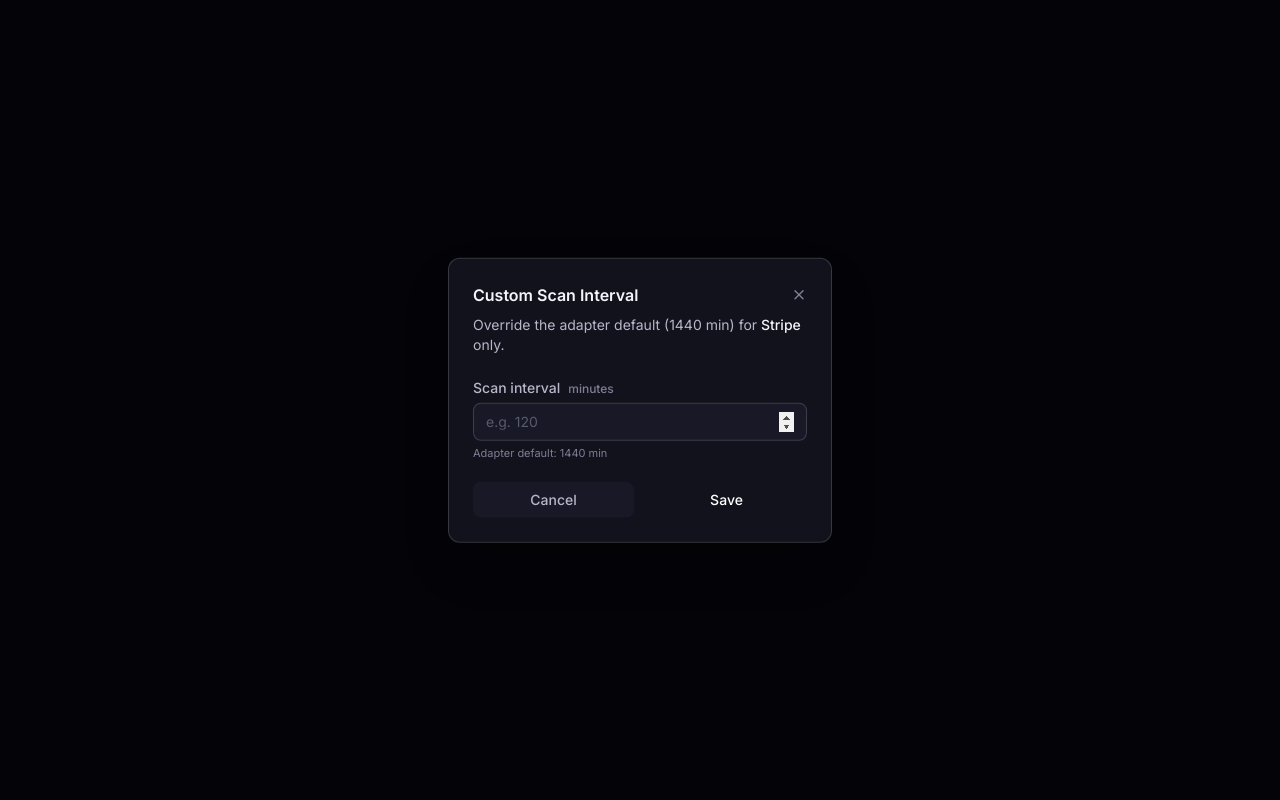
Test: ScanIntervalOverrideModal › shows inline error and keeps modal open on API failure
Type "120" into the number field at (640, 422), box [473,403,807,441]
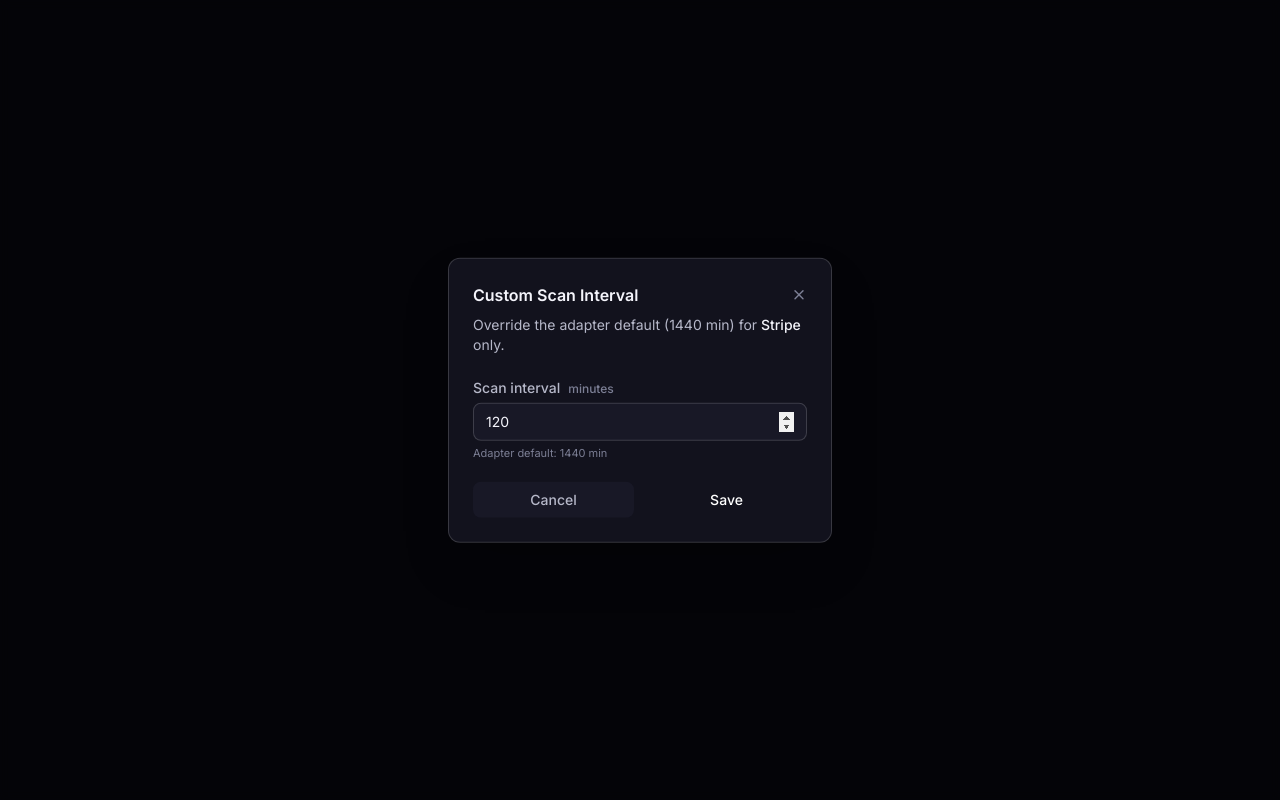
Submit the form, box [473,375,807,517]
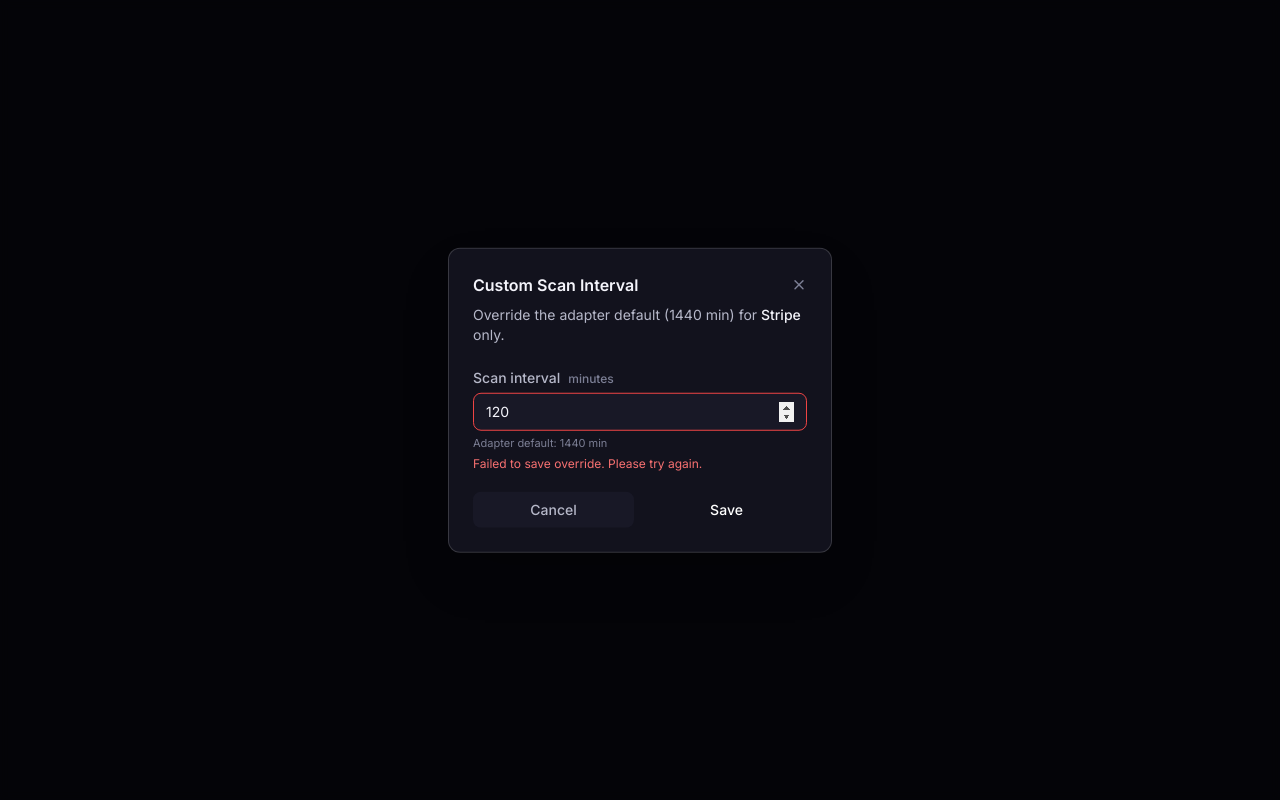
Now the text "Failed to save override. Please try again." is shown, box [473,455,702,470]
